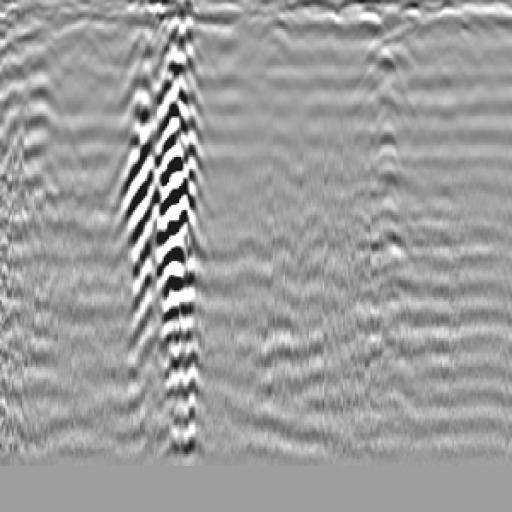metalic: (337, 24, 446, 264)
